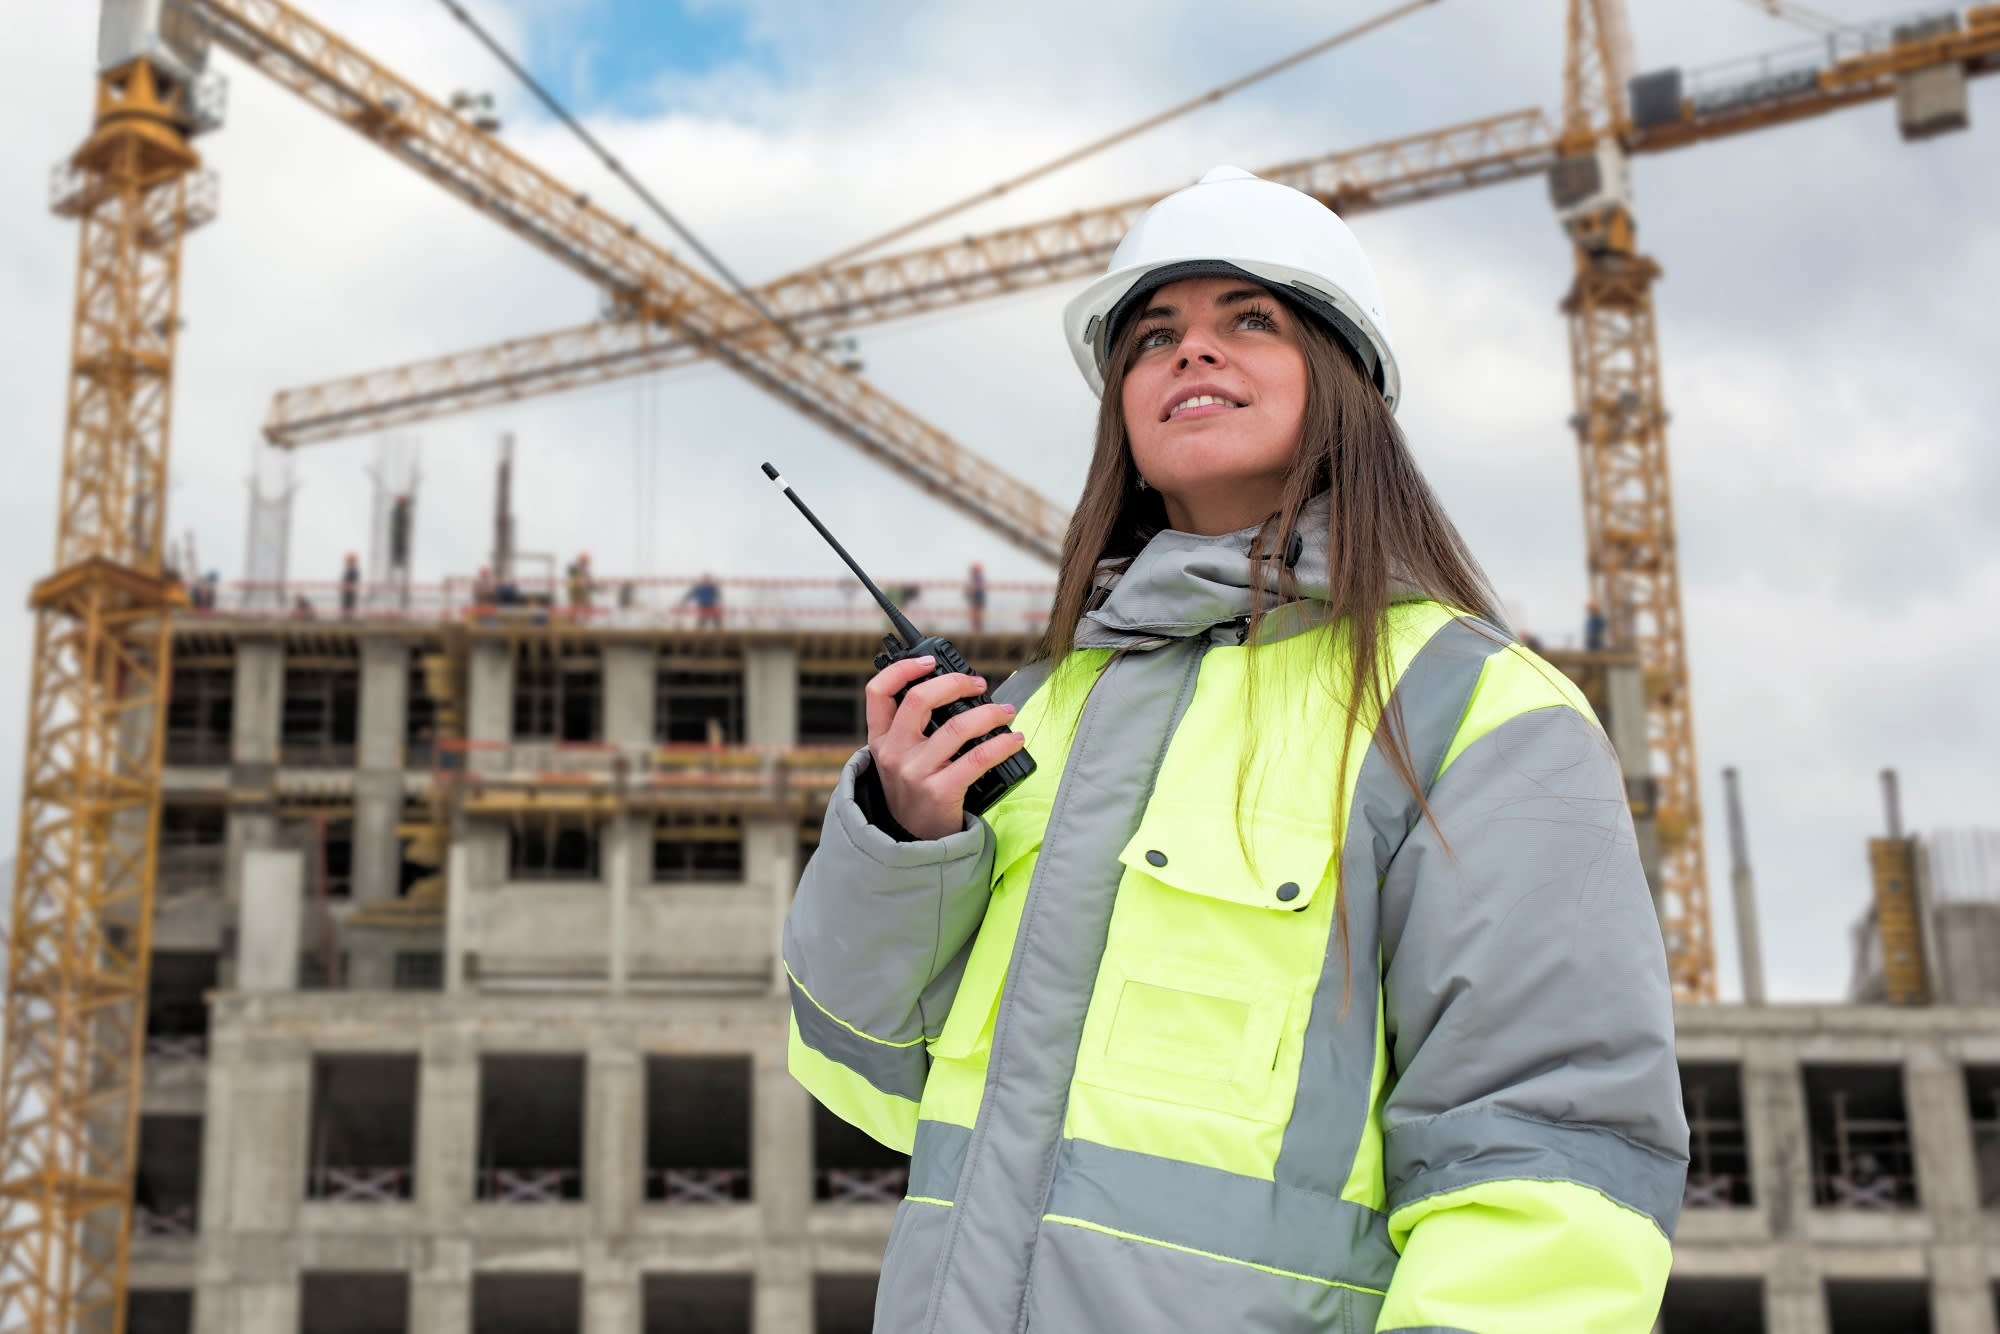hard hat: (1060, 165, 1400, 415)
high-vis: (778, 590, 1682, 1334)
